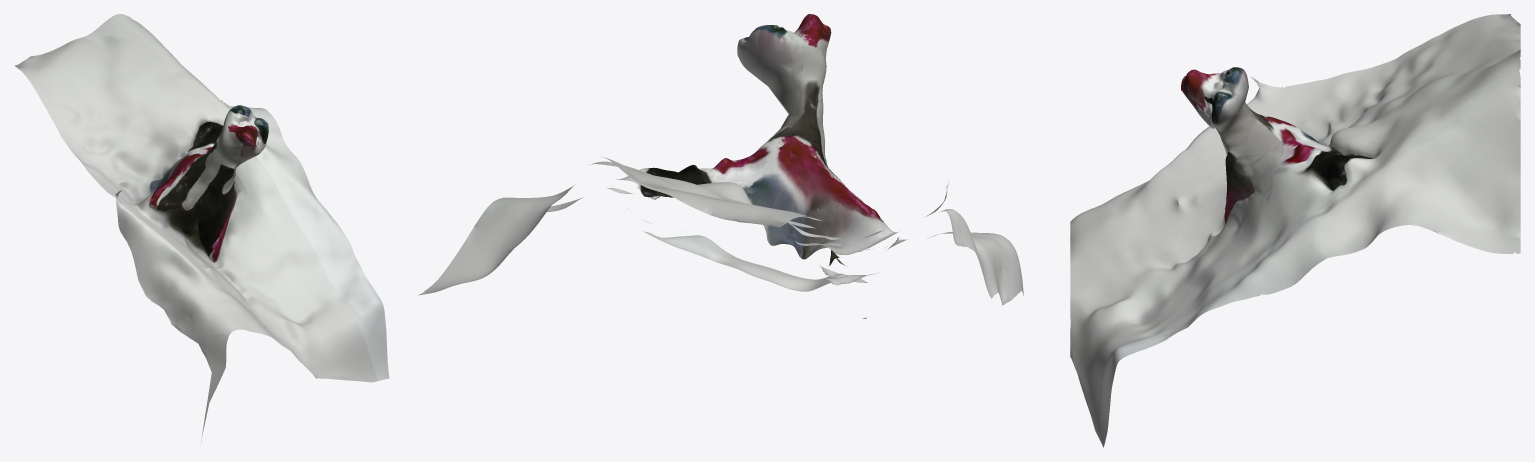
3 renders of one model, left to right at view 1: azimuth 30°, elevation 25°; view 2: azimuth 150°, elevation 25°; view 3: azimuth 270°, elevation 25°, orthographic. The views are drawn at different scales.
Size of the model in its own units: 0.5786 by 0.7388 by 0.8561.
Materials: 1 (1 with a texture image).
